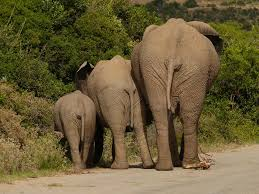elephant: (134, 19, 229, 170), (83, 50, 156, 170), (52, 84, 99, 171)
